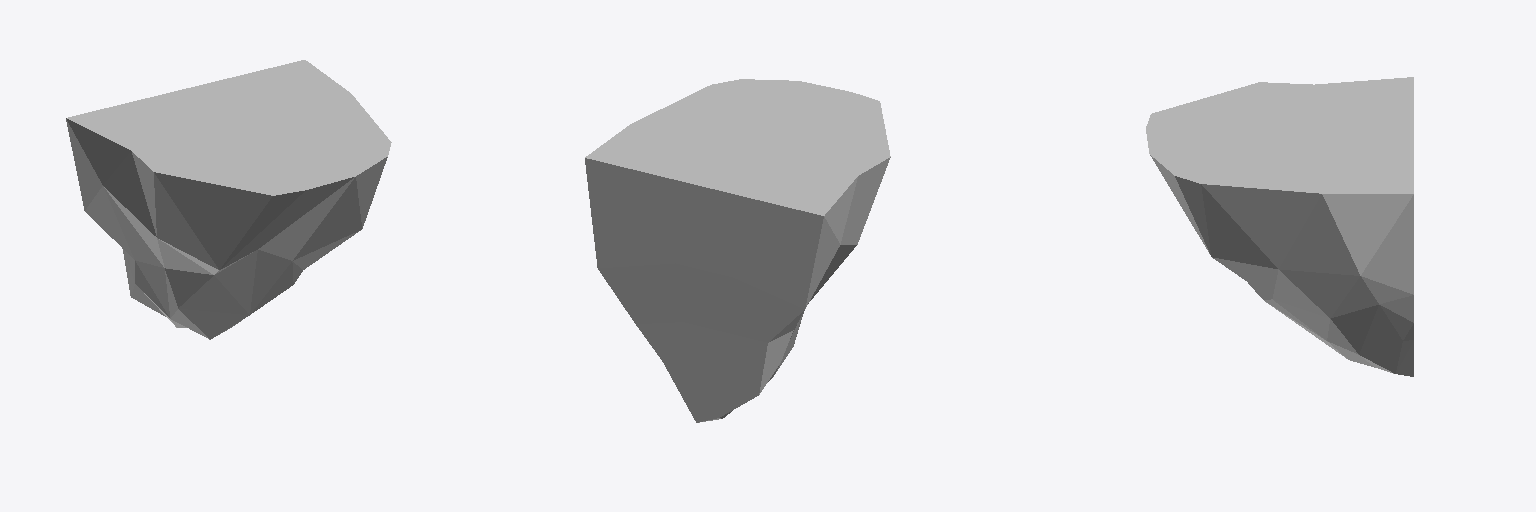
Rendered from RockPlatform6.obj.
3 renders of one model, left to right at view 1: azimuth 30°, elevation 25°; view 2: azimuth 150°, elevation 25°; view 3: azimuth 270°, elevation 25°, orthographic.
Parts seen in each view (by area): view 1: Cube.005; view 2: Cube.005; view 3: Cube.005.
Boxes of the visible parts, x1,y1,x2,y2 form: Cube.005: [66, 60, 391, 339]; Cube.005: [585, 79, 890, 422]; Cube.005: [1146, 77, 1413, 376].
Bounding box in the file's own units: 2.06 × 1.9 × 1.94.